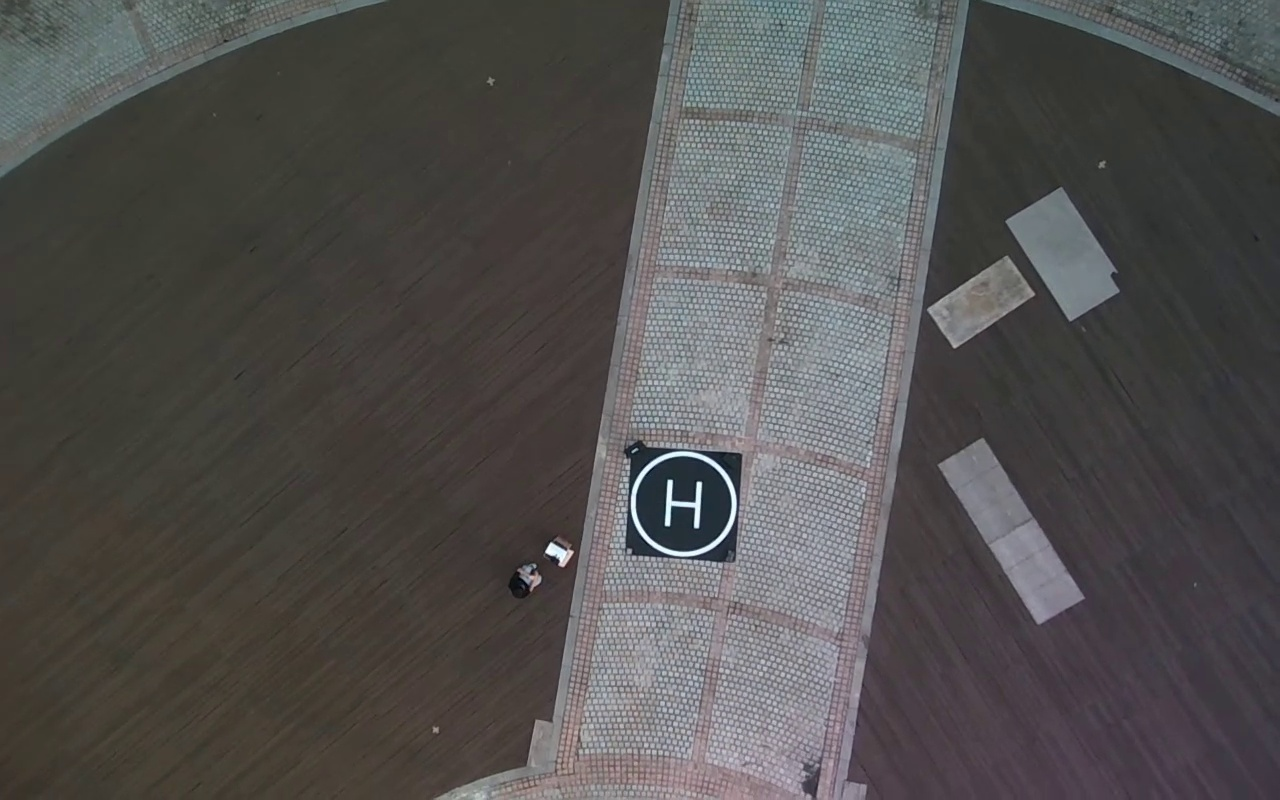H: (663, 478, 703, 529)
heliport: (631, 453, 737, 557)
